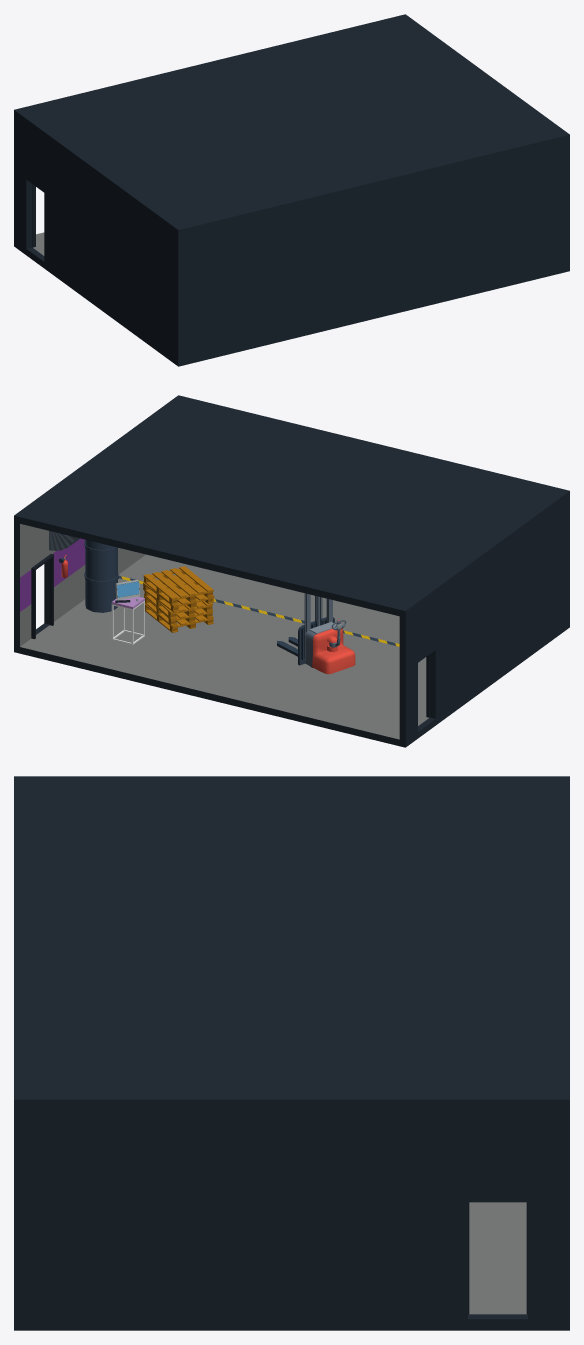
File: Room_storage_001.fbx
3 renders of one model, top to bottom at view 1: azimuth 30°, elevation 25°; view 2: azimuth 150°, elevation 25°; view 3: azimuth 270°, elevation 25°, orthographic. The views are drawn at different scales.
Parts seen in each view (by area): view 1: Lumiere.002; view 2: Lumiere.002; view 3: Lumiere.002.
Part boxes in pixels (x1=…): Lumiere.002: x1=14, y1=14, x2=569, y2=366; Lumiere.002: x1=14, y1=395, x2=569, y2=747; Lumiere.002: x1=14, y1=776, x2=569, y2=1330.
Size of the model in its own units: 1200 by 400 by 873.
